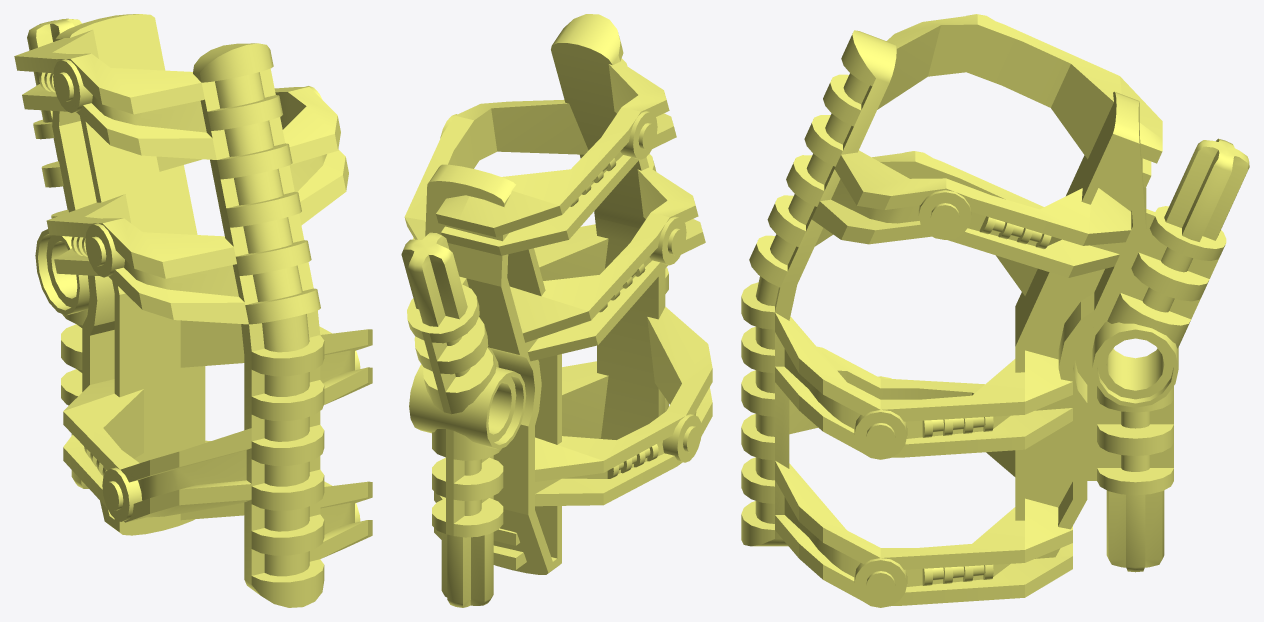
3 renders of one model, left to right at view 1: azimuth 30°, elevation 25°; view 2: azimuth 150°, elevation 25°; view 3: azimuth 270°, elevation 25°, orthographic. The views are drawn at different scales.
Parts seen in each view (by area): view 1: 53550.dat; view 2: 53550.dat; view 3: 53550.dat.
Part boxes in pixels (x1=…): 53550.dat: x1=14, y1=14, x2=372, y2=607; 53550.dat: x1=401, y1=14, x2=712, y2=607; 53550.dat: x1=741, y1=14, x2=1249, y2=607.
Bounding box in the file's own units: 0.0224 × 0.0488 × 0.0423.
